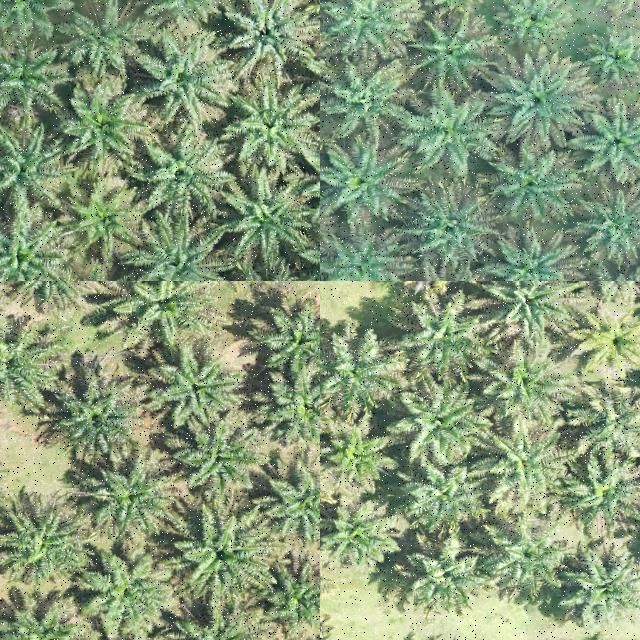Ganoderma: (585, 316, 640, 366)
